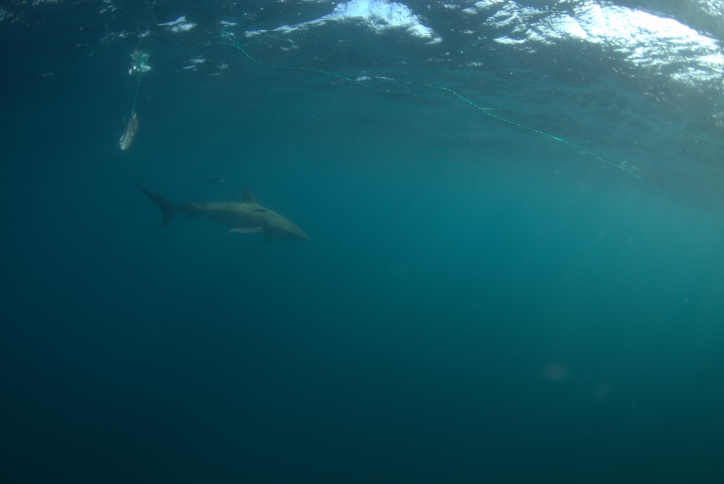Sedoso: (115, 172, 319, 253)
